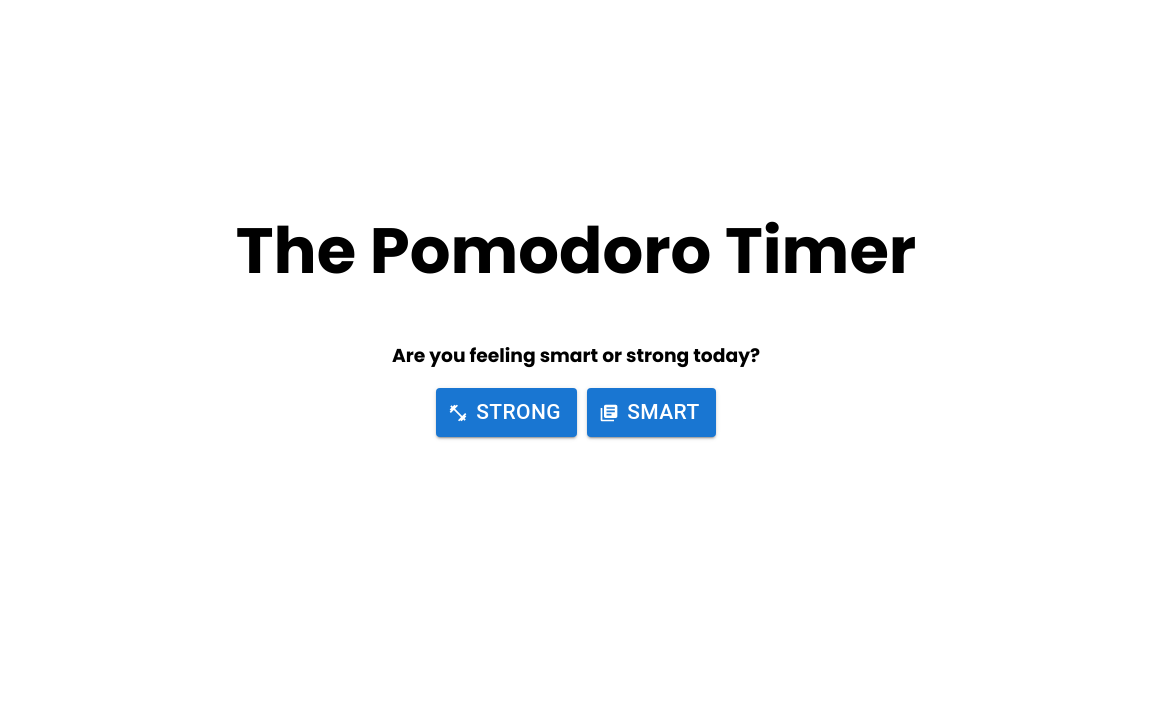
it: Button takes me to Strong page
The width and height of the screenshot is (1152, 720).
Click the link "Strong" at (519, 413), box [476,394,561,431]
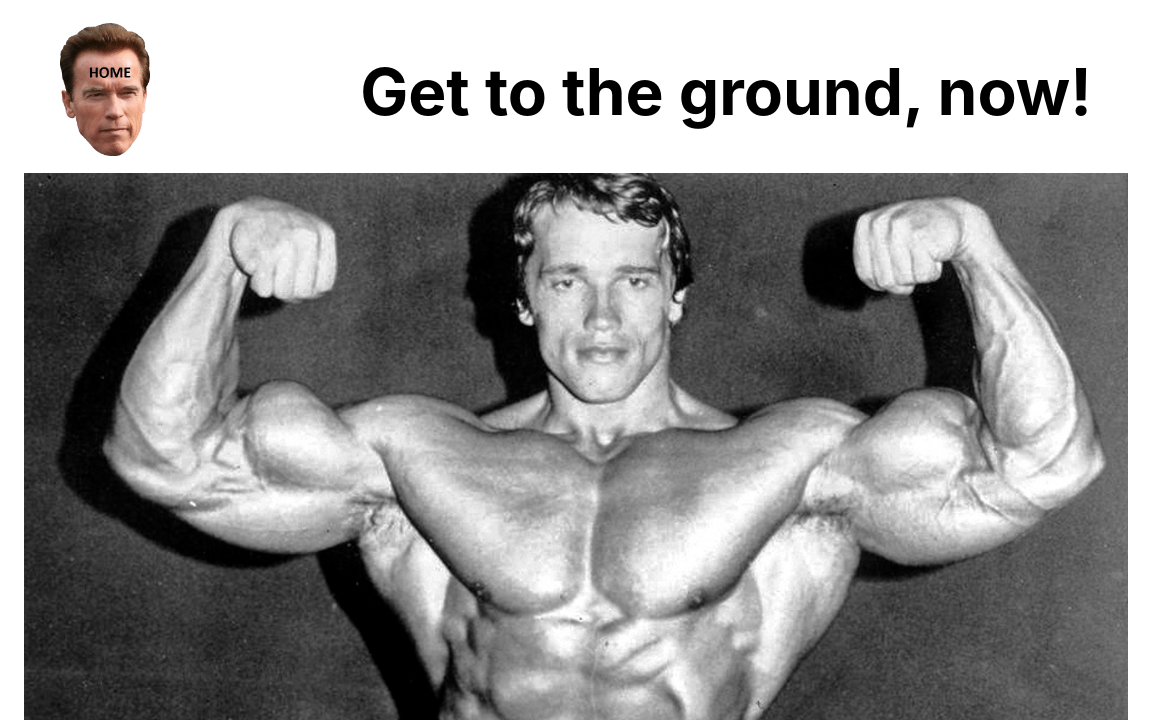
Now the heading "Get to the ground, now!" is shown, box [360,53,1092,130]
